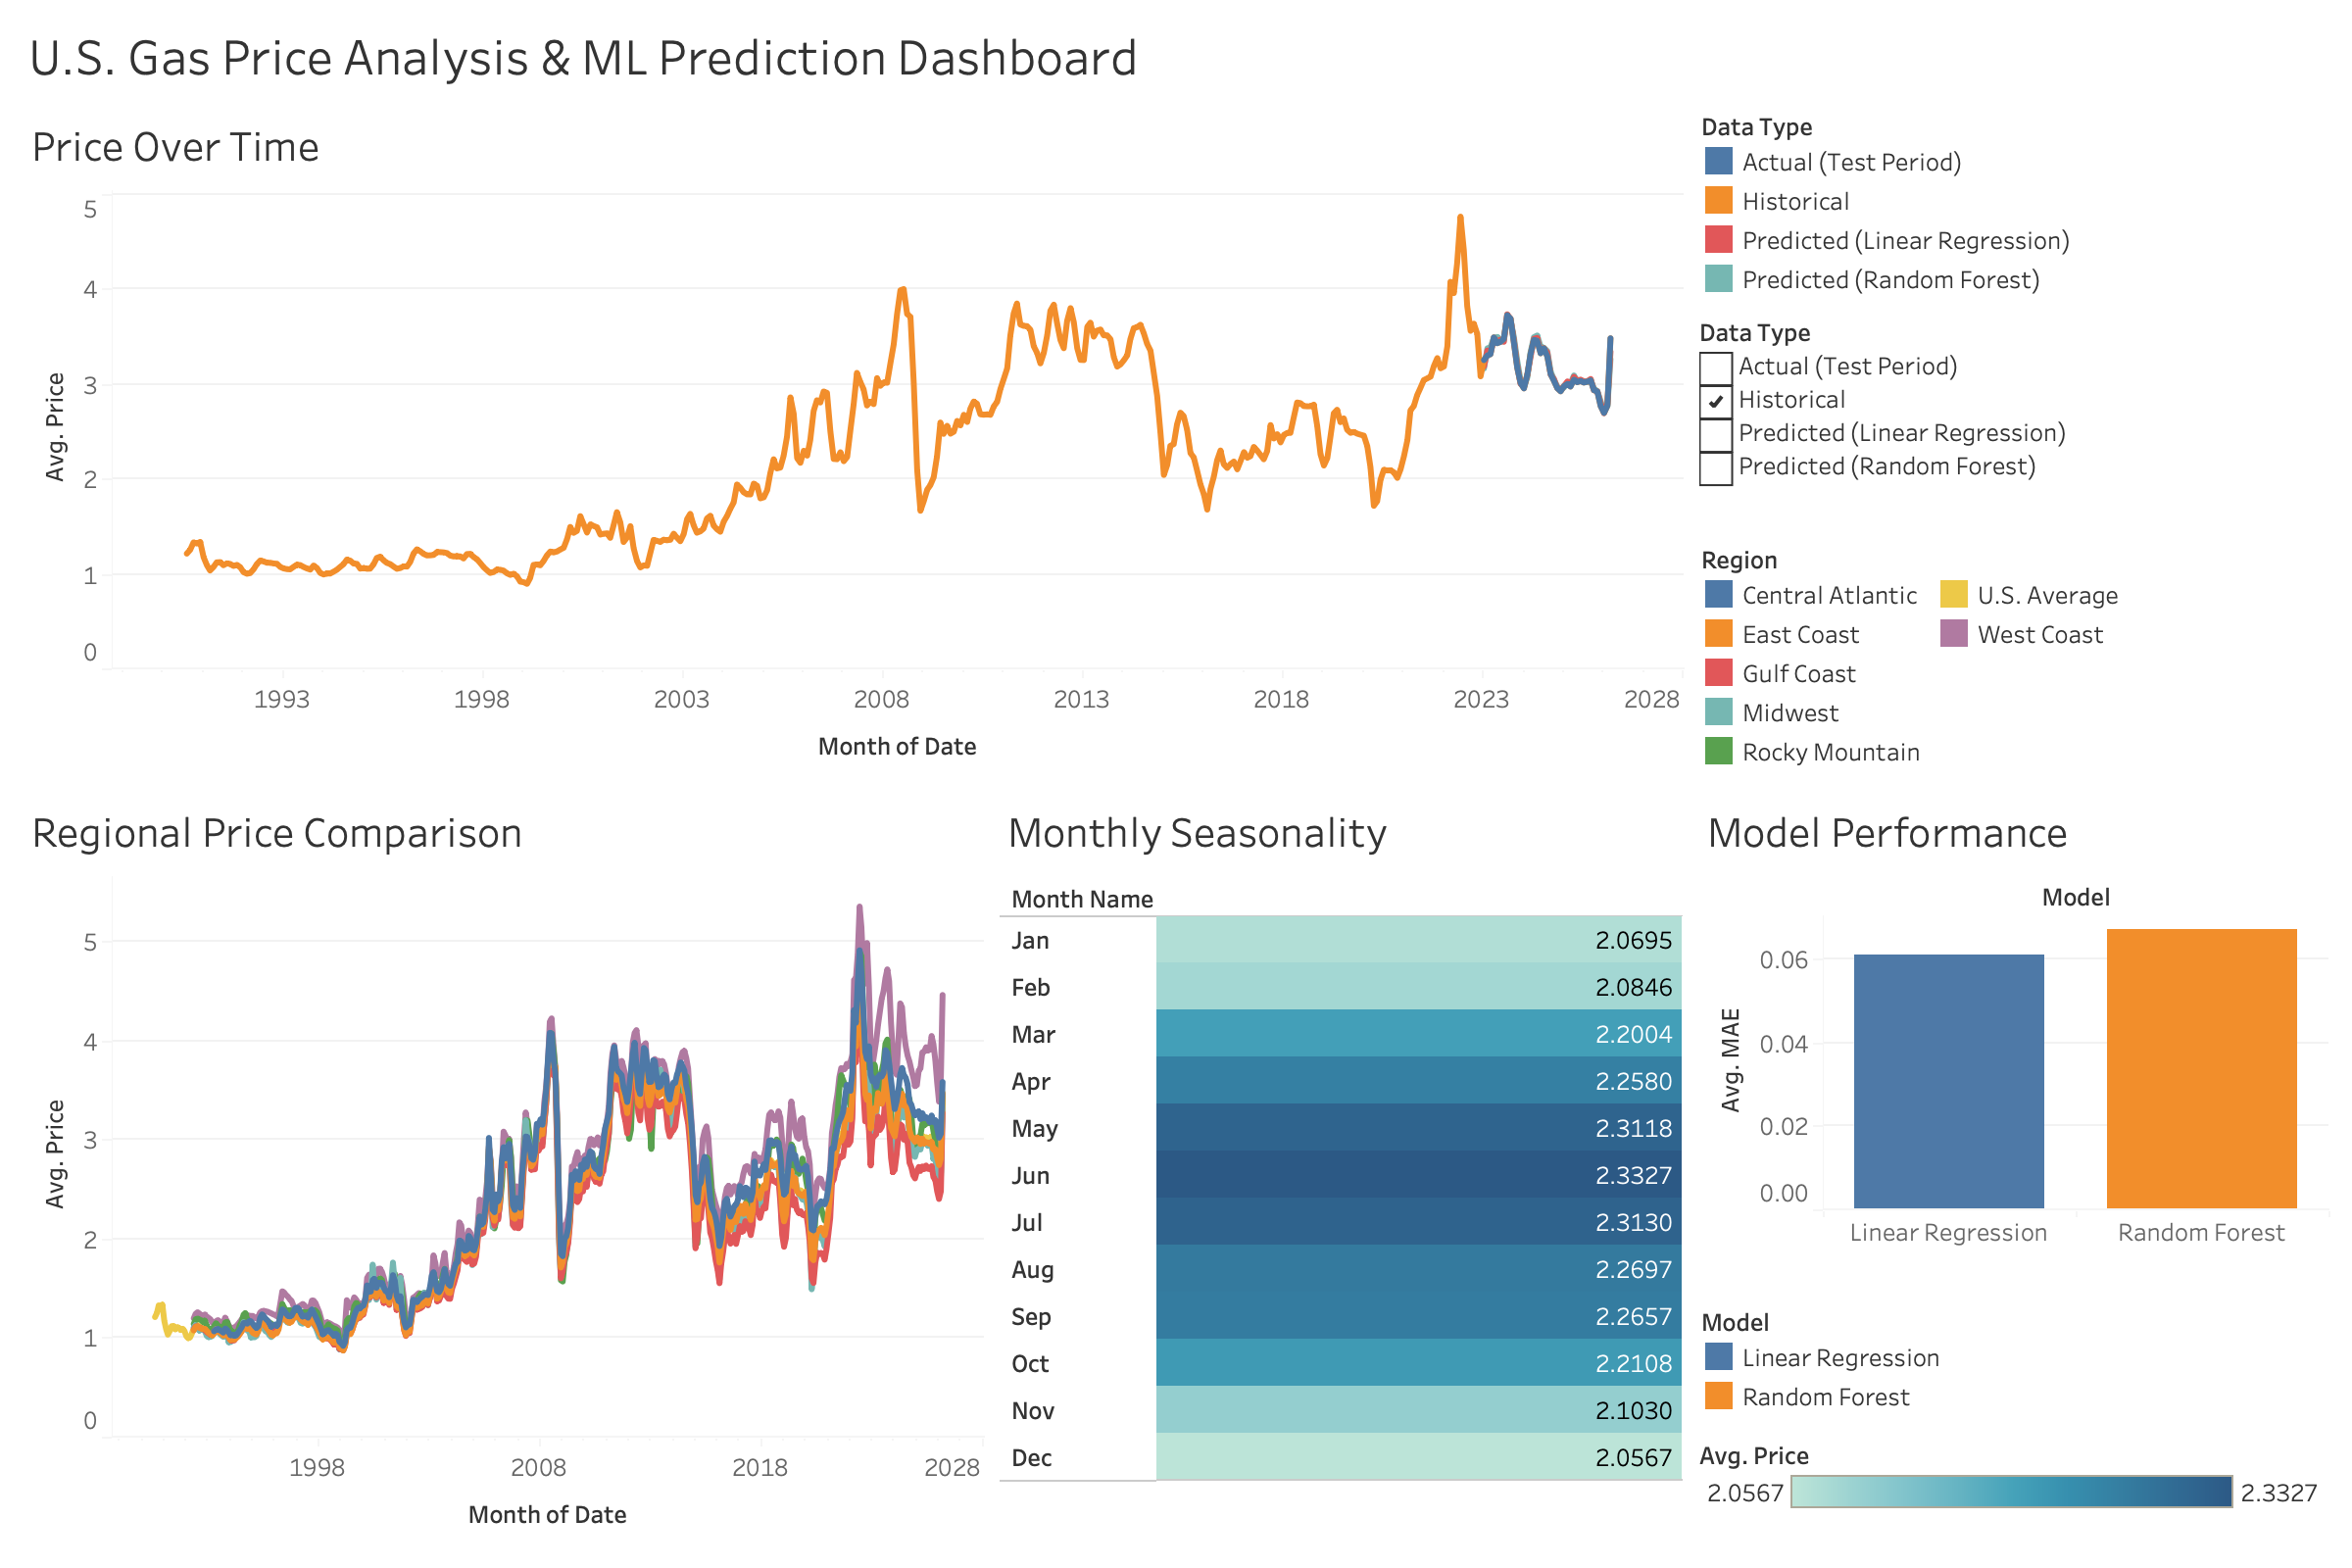

What the dashboard file says about the page in this screenshot:
{"tool":"tableau","page":{"name":"U.S. Gas Price Analysis & ML Prediction Dashboard ","canvas":[1200,800],"ordinal":0},"visuals":[{"type":"title","box":[8,8,1184,42]},{"type":"worksheet","title":"Price Over Time","mark":"Automatic","rows":["price"],"cols":["date"],"box":[8,50,855,350]},{"type":"legend","title":"Price Over Time","param":"[federated.17jwneb0t5vneu17qjni41yv9hrn].[none:data_type:nk]","box":[863,50,329,106]},{"type":"filter","title":"Regional Price Comparison","param":"[federated.17jwneb0t5vneu17qjni41yv9hrn].[none:data_type:nk]","box":[863,156,329,115]},{"type":"legend","title":"Regional Price Comparison","param":"[federated.17jwneb0t5vneu17qjni41yv9hrn].[none:region:nk]","box":[863,271,329,129]},{"type":"worksheet","title":"Regional Price Comparison","mark":"Automatic","rows":["price"],"cols":["date"],"box":[8,400,498,392]},{"type":"worksheet","title":"Monthly Seasonality","mark":"Square","rows":["month_name"],"box":[506,400,357,392]},{"type":"worksheet","title":"Model Performance","mark":"Automatic","rows":["MAE"],"cols":["model"],"box":[863,400,329,261]},{"type":"legend","title":"Model Performance","param":"[federated.0nbefp502bpcun15juup40ao0r7l].[none:model:nk]","box":[863,661,329,66]},{"type":"legend","title":"Monthly Seasonality","param":"[federated.17jwneb0t5vneu17qjni41yv9hrn].[avg:price:qk]","box":[863,727,329,65]}]}

Visuals, with their boxes in screenshot pixels (x1, y1, x2, y2), scaled from the page's 1200x800 canvas onto the 2352x1568 screenshot:
title: x1=16 y1=16 x2=2336 y2=98
"Price Over Time" worksheet: x1=16 y1=98 x2=1691 y2=784
"Price Over Time" legend: x1=1691 y1=98 x2=2336 y2=306
"Regional Price Comparison" filter: x1=1691 y1=306 x2=2336 y2=531
"Regional Price Comparison" legend: x1=1691 y1=531 x2=2336 y2=784
"Regional Price Comparison" worksheet: x1=16 y1=784 x2=992 y2=1552
"Monthly Seasonality" worksheet (Square marks): x1=992 y1=784 x2=1691 y2=1552
"Model Performance" worksheet: x1=1691 y1=784 x2=2336 y2=1296
"Model Performance" legend: x1=1691 y1=1296 x2=2336 y2=1425
"Monthly Seasonality" legend: x1=1691 y1=1425 x2=2336 y2=1552
